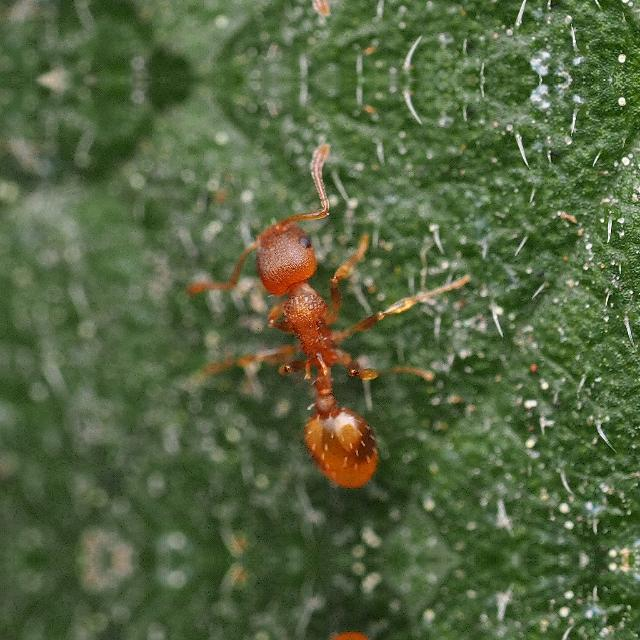Temnothorax: (204, 164, 424, 500)
